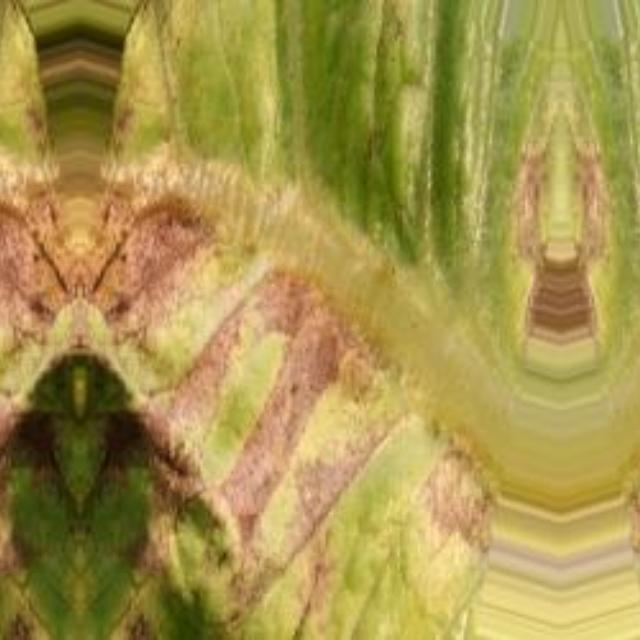Septoria_Blight: (264, 246, 406, 482), (371, 369, 425, 625), (180, 182, 258, 336), (412, 453, 491, 553), (629, 453, 640, 553)
